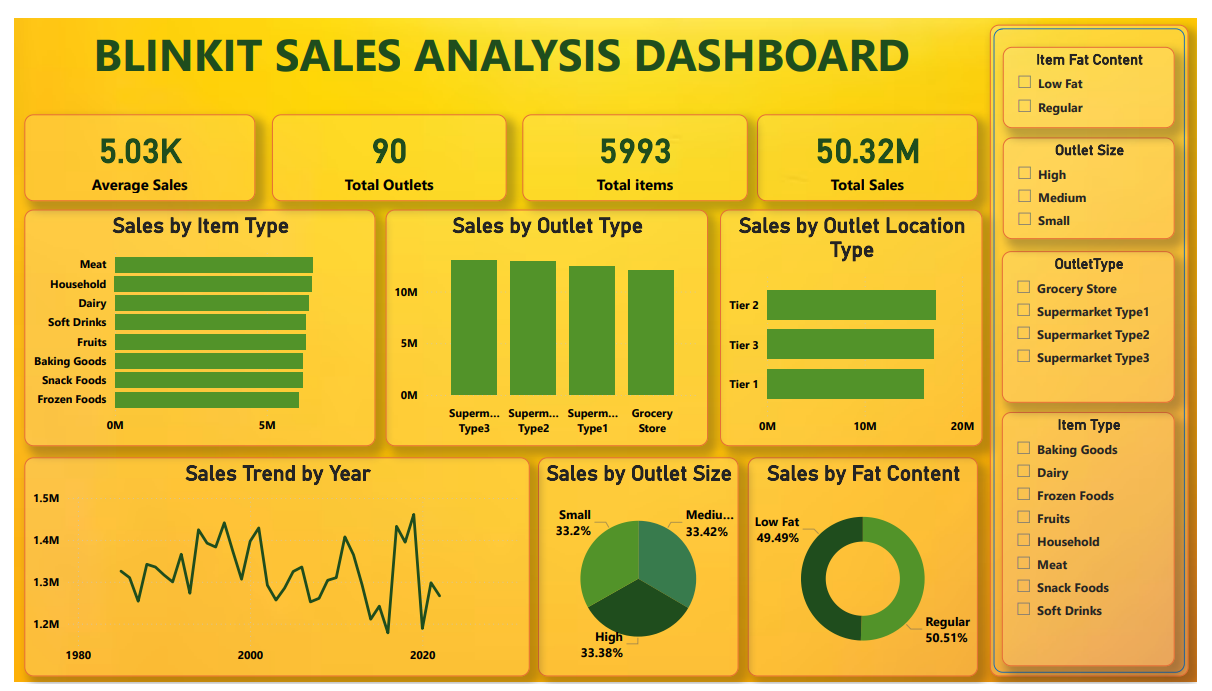

The dashboard page shown, as its layout file describes it:
{"tool":"powerbi","page":{"name":"Page 1","canvas":[1280,720],"ordinal":0},"visuals":[{"type":"card","title":"Total Sales","fields":{"Values":["blinkitdb blinkit_raw.Total Sales"]},"box":[803.7,104.3,239.3,93.3],"z":0},{"type":"card","title":"Average Sales","fields":{"Values":["blinkitdb blinkit_raw.Average Sales"]},"box":[11,104.3,250.3,93.3],"z":1000},{"type":"card","title":"Total Items","fields":{"Values":["blinkitdb blinkit_raw.Total items"]},"box":[549.7,104.3,244.2,93.3],"z":2000},{"type":"card","title":"Total Outlets","fields":{"Values":["blinkitdb blinkit_raw.Total Outlets"]},"box":[278.5,104.3,254,93.3],"z":3000},{"type":"clusteredBarChart","title":"Sales by Item Type","fields":{"Category":["blinkitdb blinkit_raw.Item_Type"],"Y":["Sum(blinkitdb blinkit_raw.Item_Outlet_Sales)"]},"box":[11,207.4,380.4,255.2],"z":3001},{"type":"donutChart","title":"Sales by Fat Content","fields":{"Category":["blinkitdb blinkit_raw.Item_Fat_Content"],"Y":["Sum(blinkitdb blinkit_raw.Item_Outlet_Sales)"]},"box":[793.9,474.8,249.1,236.8],"z":3002},{"type":"clusteredColumnChart","title":"Sales by Outlet Type","fields":{"Category":["blinkitdb blinkit_raw.Outlet_Type"],"Y":["Sum(blinkitdb blinkit_raw.Item_Outlet_Sales)"]},"box":[402.5,207.4,348.5,255.2],"z":3003},{"type":"pieChart","title":"Sales by Outlet Size","fields":{"Category":["blinkitdb blinkit_raw.Outlet_Size"],"Y":["Sum(blinkitdb blinkit_raw.Item_Outlet_Sales)"]},"box":[566.9,474.8,217.2,236.8],"z":3004},{"type":"clusteredBarChart","title":"Sales by Outlet Location Type","fields":{"Category":["blinkitdb blinkit_raw.Outlet_Location_Type"],"Y":["Sum(blinkitdb blinkit_raw.Item_Outlet_Sales)"]},"box":[764.4,207.4,283.4,255.2],"z":3005},{"type":"lineChart","title":"Sales Trend by Year","fields":{"Category":["blinkitdb blinkit_raw.Outlet_Establishment_Year"],"Y":["Sum(blinkitdb blinkit_raw.Item_Outlet_Sales)"]},"box":[11,474.8,547.2,236.8],"z":3006},{"type":"shape","box":[1056,7,215,705],"z":3009},{"type":"slicer","title":"Item Type","fields":{"Values":["blinkitdb blinkit_raw.Item_Type"]},"box":[1069,426,187,275],"z":3011},{"type":"slicer","title":"OutletType","fields":{"Values":["blinkitdb blinkit_raw.Outlet_Type"]},"box":[1068.7,251.5,187.7,164.4],"z":3012},{"type":"slicer","title":"Outlet Size","fields":{"Values":["blinkitdb blinkit_raw.Outlet_Size"]},"box":[1069.9,128.8,186.5,110.4],"z":3013},{"type":"slicer","title":"Item Fat Content","fields":{"Values":["blinkitdb blinkit_raw.Item_Fat_Content"]},"box":[1069.9,30.7,186.5,88.3],"z":3014},{"type":"textbox","box":[81,0,901.8,98.2],"z":3015}]}

Visuals, with their boxes in screenshot pixels (x1, y1, x2, y2), scaled from the page's 1280x720 canvas onto the 1212x691 screenshot:
"Total Sales" card: 761 100 988 190
"Average Sales" card: 10 100 247 190
"Total Items" card: 520 100 752 190
"Total Outlets" card: 264 100 504 190
"Sales by Item Type" clusteredBarChart: 10 199 371 444
"Sales by Fat Content" donutChart: 752 456 988 683
"Sales by Outlet Type" clusteredColumnChart: 381 199 711 444
"Sales by Outlet Size" pieChart: 537 456 742 683
"Sales by Outlet Location Type" clusteredBarChart: 724 199 992 444
"Sales Trend by Year" lineChart: 10 456 529 683
shape: 1000 7 1203 683
"Item Type" slicer: 1012 409 1189 673
"OutletType" slicer: 1012 241 1190 399
"Outlet Size" slicer: 1013 124 1190 230
"Item Fat Content" slicer: 1013 29 1190 114
textbox: 77 0 931 94
